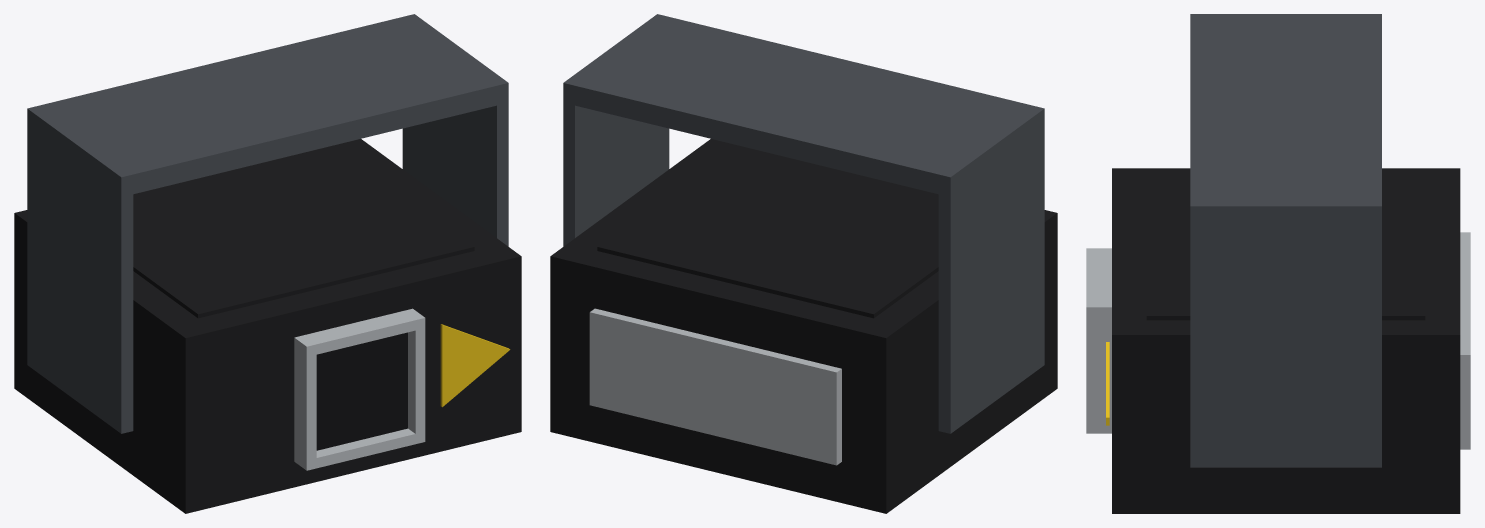
Rendered from show-laser-no-clamp.glb.
3 views of the same model, side by side, from view 1: azimuth 30°, elevation 25°; view 2: azimuth 150°, elevation 25°; view 3: azimuth 270°, elevation 25° (orthographic).
Visible parts, largest first — view 1: body, hanging-frame, aperture-surround, aperture-window, warning-sticker; view 2: body, hanging-frame, exhaust-grille; view 3: hanging-frame, body, aperture-surround, exhaust-grille.
Part boxes in pixels (<box>): body: <box>14,139,521,513</box>; hanging-frame: <box>27,14,508,433</box>; aperture-surround: <box>294,308,425,470</box>; aperture-window: <box>316,332,407,450</box>; warning-sticker: <box>440,324,510,407</box>; body: <box>550,139,1057,513</box>; hanging-frame: <box>563,14,1044,433</box>; exhaust-grille: <box>589,308,841,465</box>; hanging-frame: <box>1190,14,1381,467</box>; body: <box>1112,168,1460,513</box>; aperture-surround: <box>1086,248,1111,433</box>; exhaust-grille: <box>1460,232,1470,449</box>.
Bounding box in the file's own units: 0.392 × 0.3044 × 0.331.
